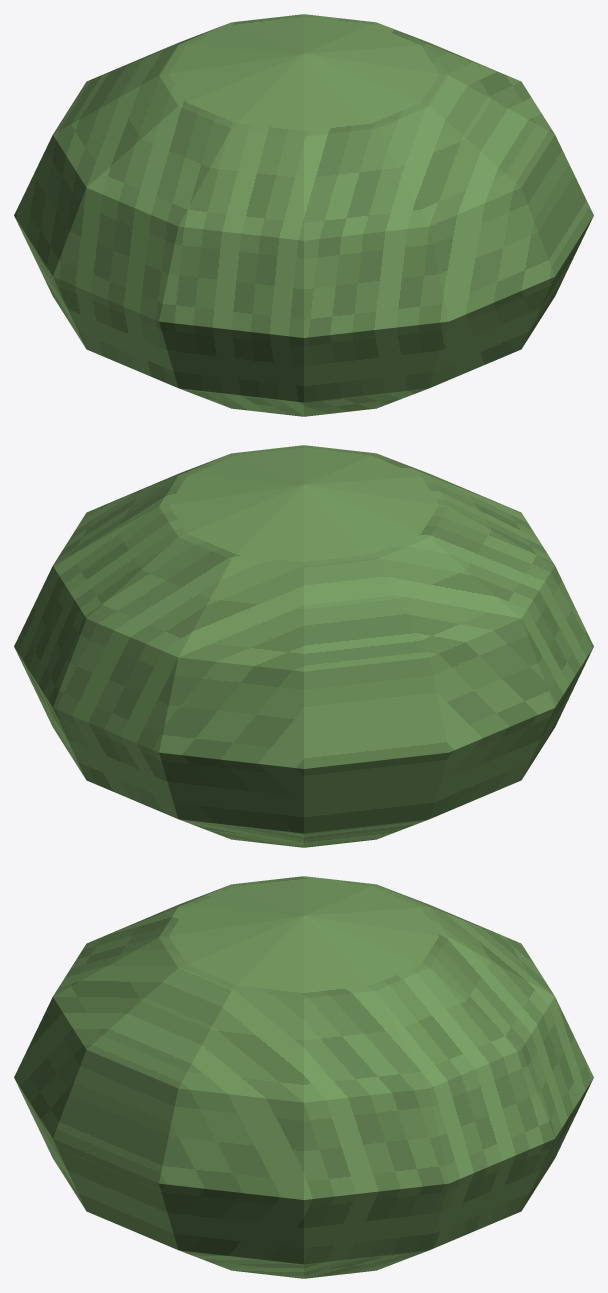
The model's file is bush_wide.glb.
3 views of the same model, one above another, from view 1: azimuth 30°, elevation 25°; view 2: azimuth 150°, elevation 25°; view 3: azimuth 270°, elevation 25° (orthographic).
Bounding box in the file's own units: 2.6 × 1.6 × 2.6.
1 material, 1 textured.
